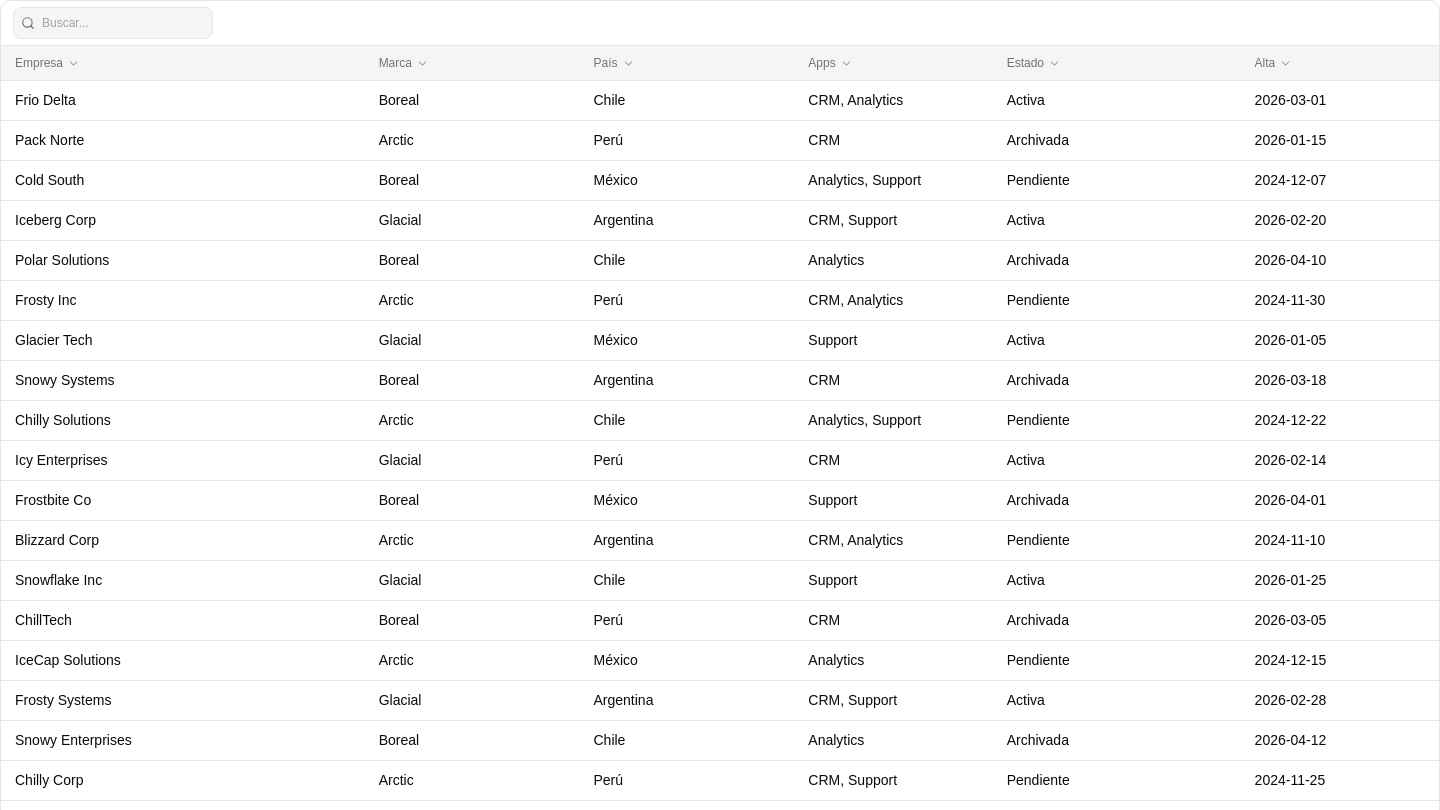
Test case: shows the empty message when nothing matches
The image size is (1440, 810).
Step 1. Type "zzzz" into the search field → [113, 23], box [13, 7, 213, 39]
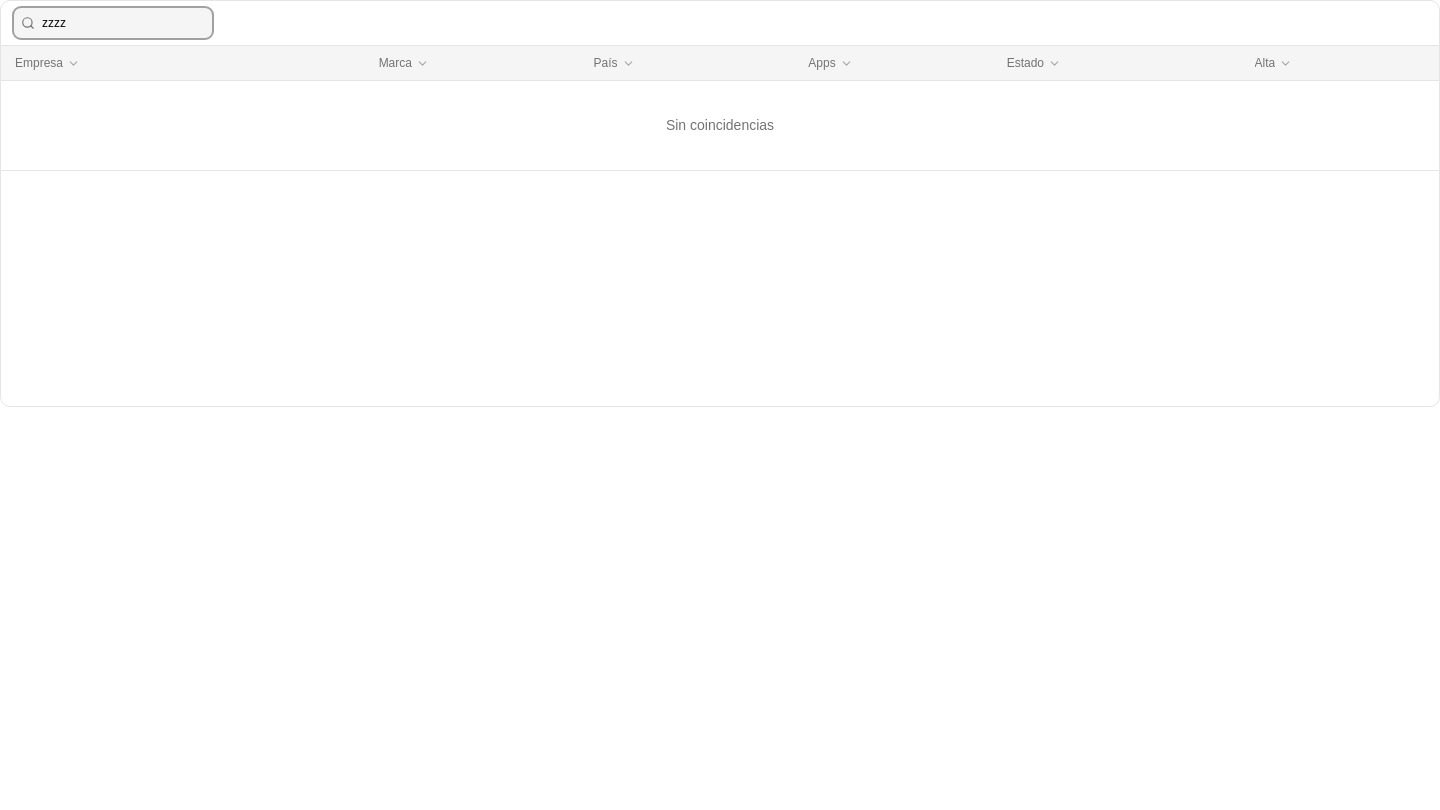
Expected: no rows with class "gdy-table-row" are shown
